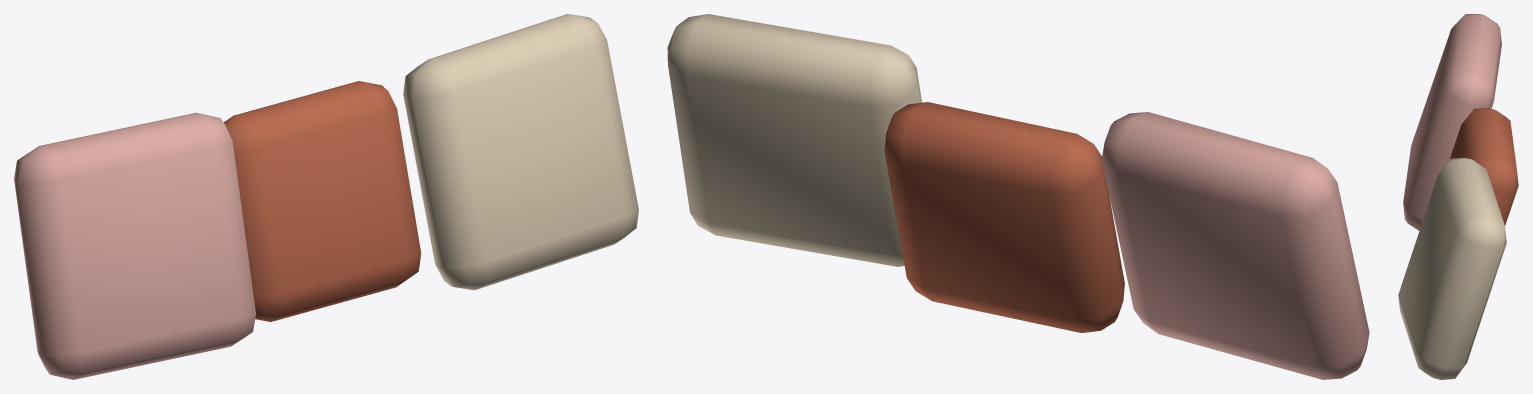
The model's file is i_pillows_4.glb.
3 renders of one model, left to right at view 1: azimuth 30°, elevation 25°; view 2: azimuth 150°, elevation 25°; view 3: azimuth 270°, elevation 25°, orthographic. The views are drawn at different scales.
Parts seen in each view (by area): view 1: o, o.002, o.001; view 2: o, o.002, o.001; view 3: o.002, o, o.001.
Part boxes in pixels (bbox=[...]): o: bbox=[14, 112, 255, 379]; o.002: bbox=[403, 14, 638, 290]; o.001: bbox=[224, 81, 421, 321]; o: bbox=[1101, 112, 1369, 379]; o.002: bbox=[667, 14, 921, 266]; o.001: bbox=[884, 102, 1124, 332]; o.002: bbox=[1398, 157, 1506, 379]; o: bbox=[1403, 14, 1501, 230]; o.001: bbox=[1450, 108, 1518, 225].
Size of the model in its own units: 1.3 by 0.4345 by 0.294.
